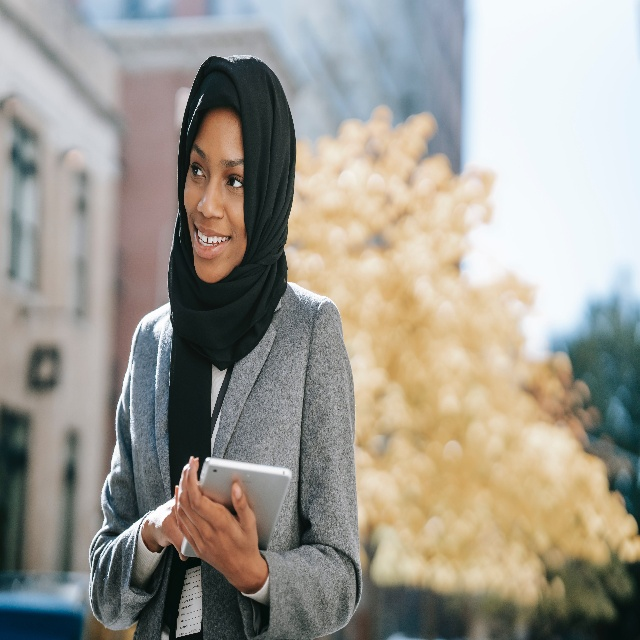Sin_guantes: (174, 454, 259, 591), (151, 495, 188, 560)
